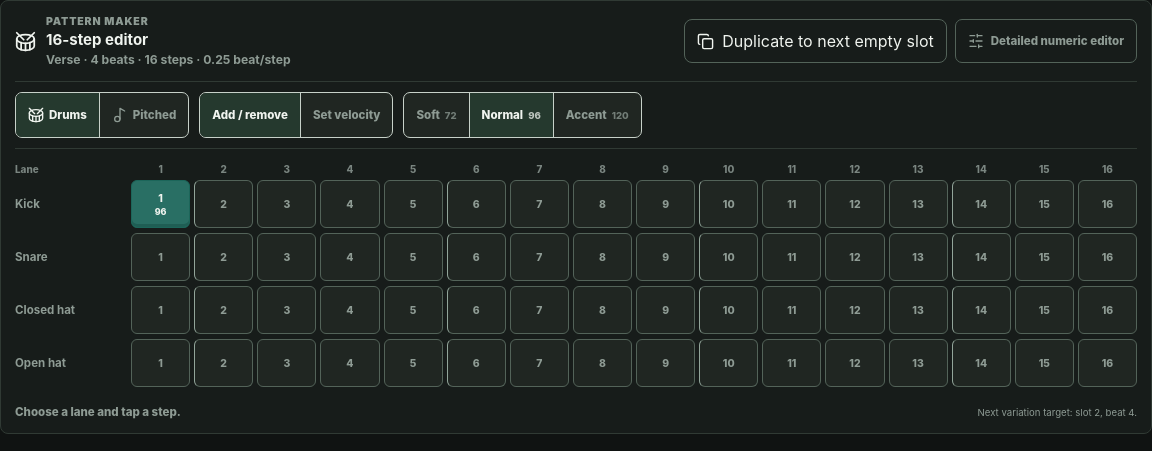
StepEditor › duplicates to the next empty slot with fresh IDs and blocks overwrite
Click the button "Duplicate to next empty slot" at (816, 41), box [684, 19, 947, 63]
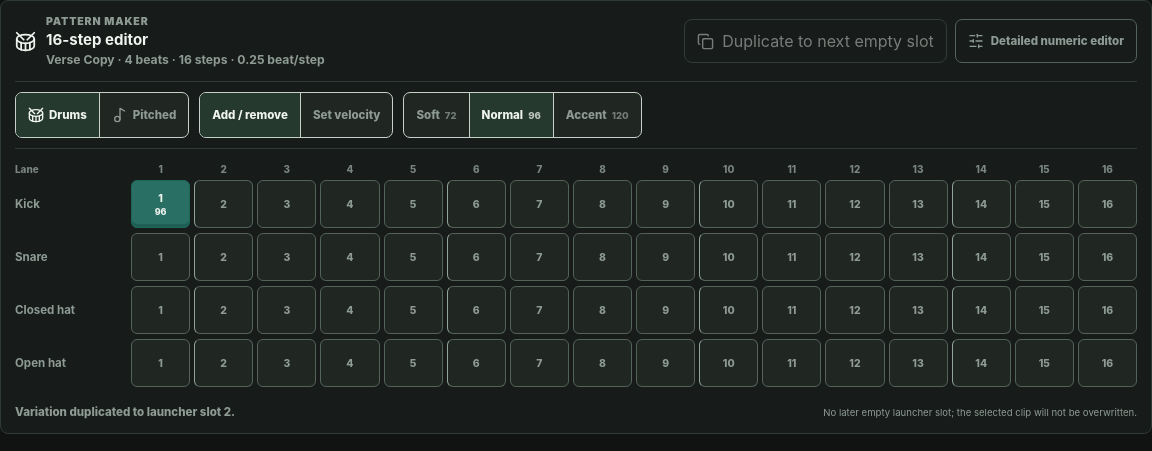
Now the button "Duplicate to next empty slot" is disabled, box [684, 19, 947, 63]
Now the text "will not be overwritten" is shown, box [823, 406, 1137, 418]
